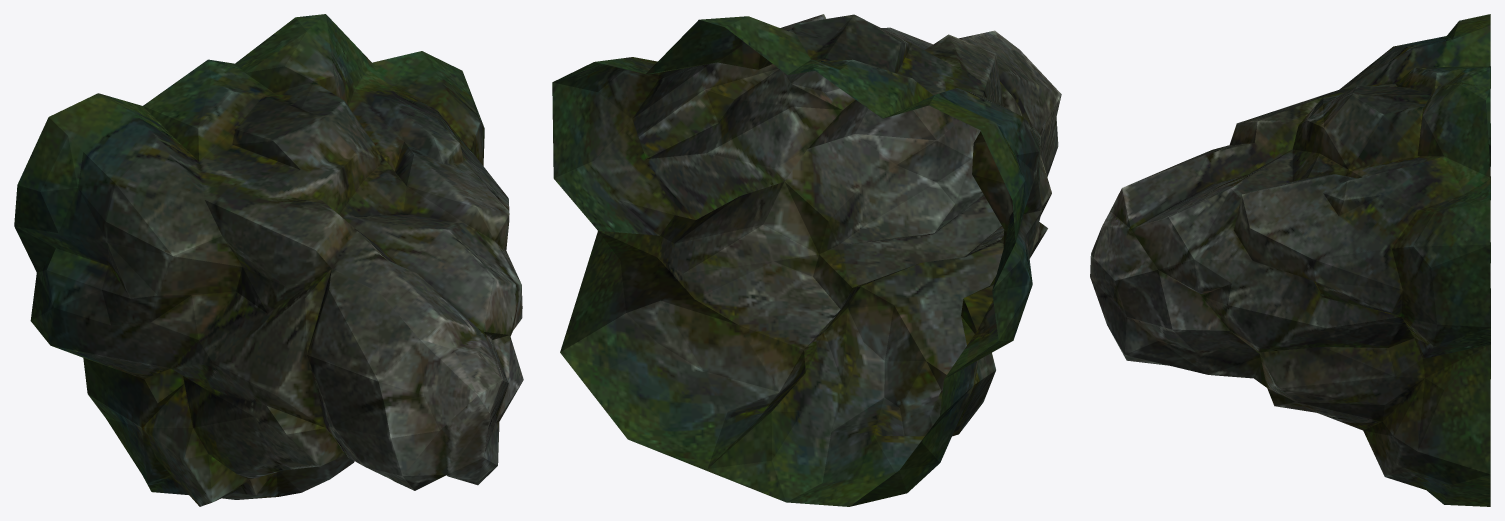
Rendered from huodong_fuben_420_bankuai02_shitou1.obj.
3 renders of one model, left to right at view 1: azimuth 30°, elevation 25°; view 2: azimuth 150°, elevation 25°; view 3: azimuth 270°, elevation 25°, orthographic. The views are drawn at different scales.
Visible parts, largest first — view 1: huodong_fuben_420_bankuai02_shitou1; view 2: huodong_fuben_420_bankuai02_shitou1; view 3: huodong_fuben_420_bankuai02_shitou1.
Boxes of the visible parts, x1,y1,x2,y2 form: huodong_fuben_420_bankuai02_shitou1: (14,14,523,506); huodong_fuben_420_bankuai02_shitou1: (552,14,1061,506); huodong_fuben_420_bankuai02_shitou1: (1090,14,1490,506).
Size of the model in its own units: 631 by 599 by 544.
1 material, 1 textured.
